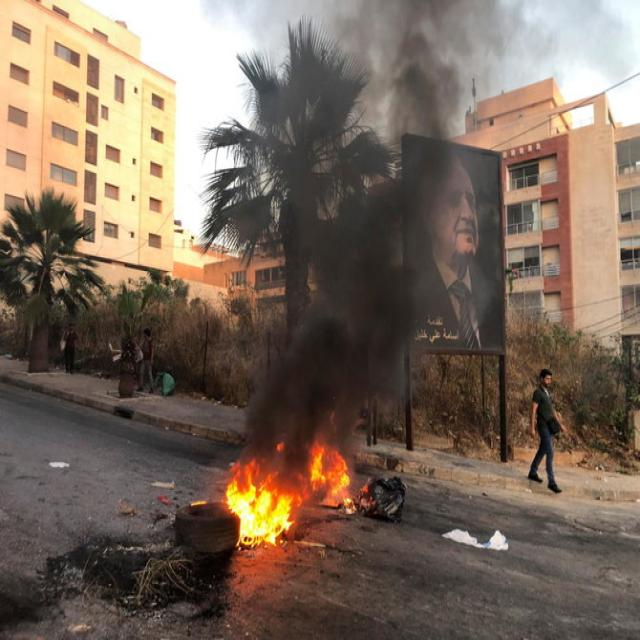fire: (226, 478, 293, 550), (312, 446, 349, 494)
